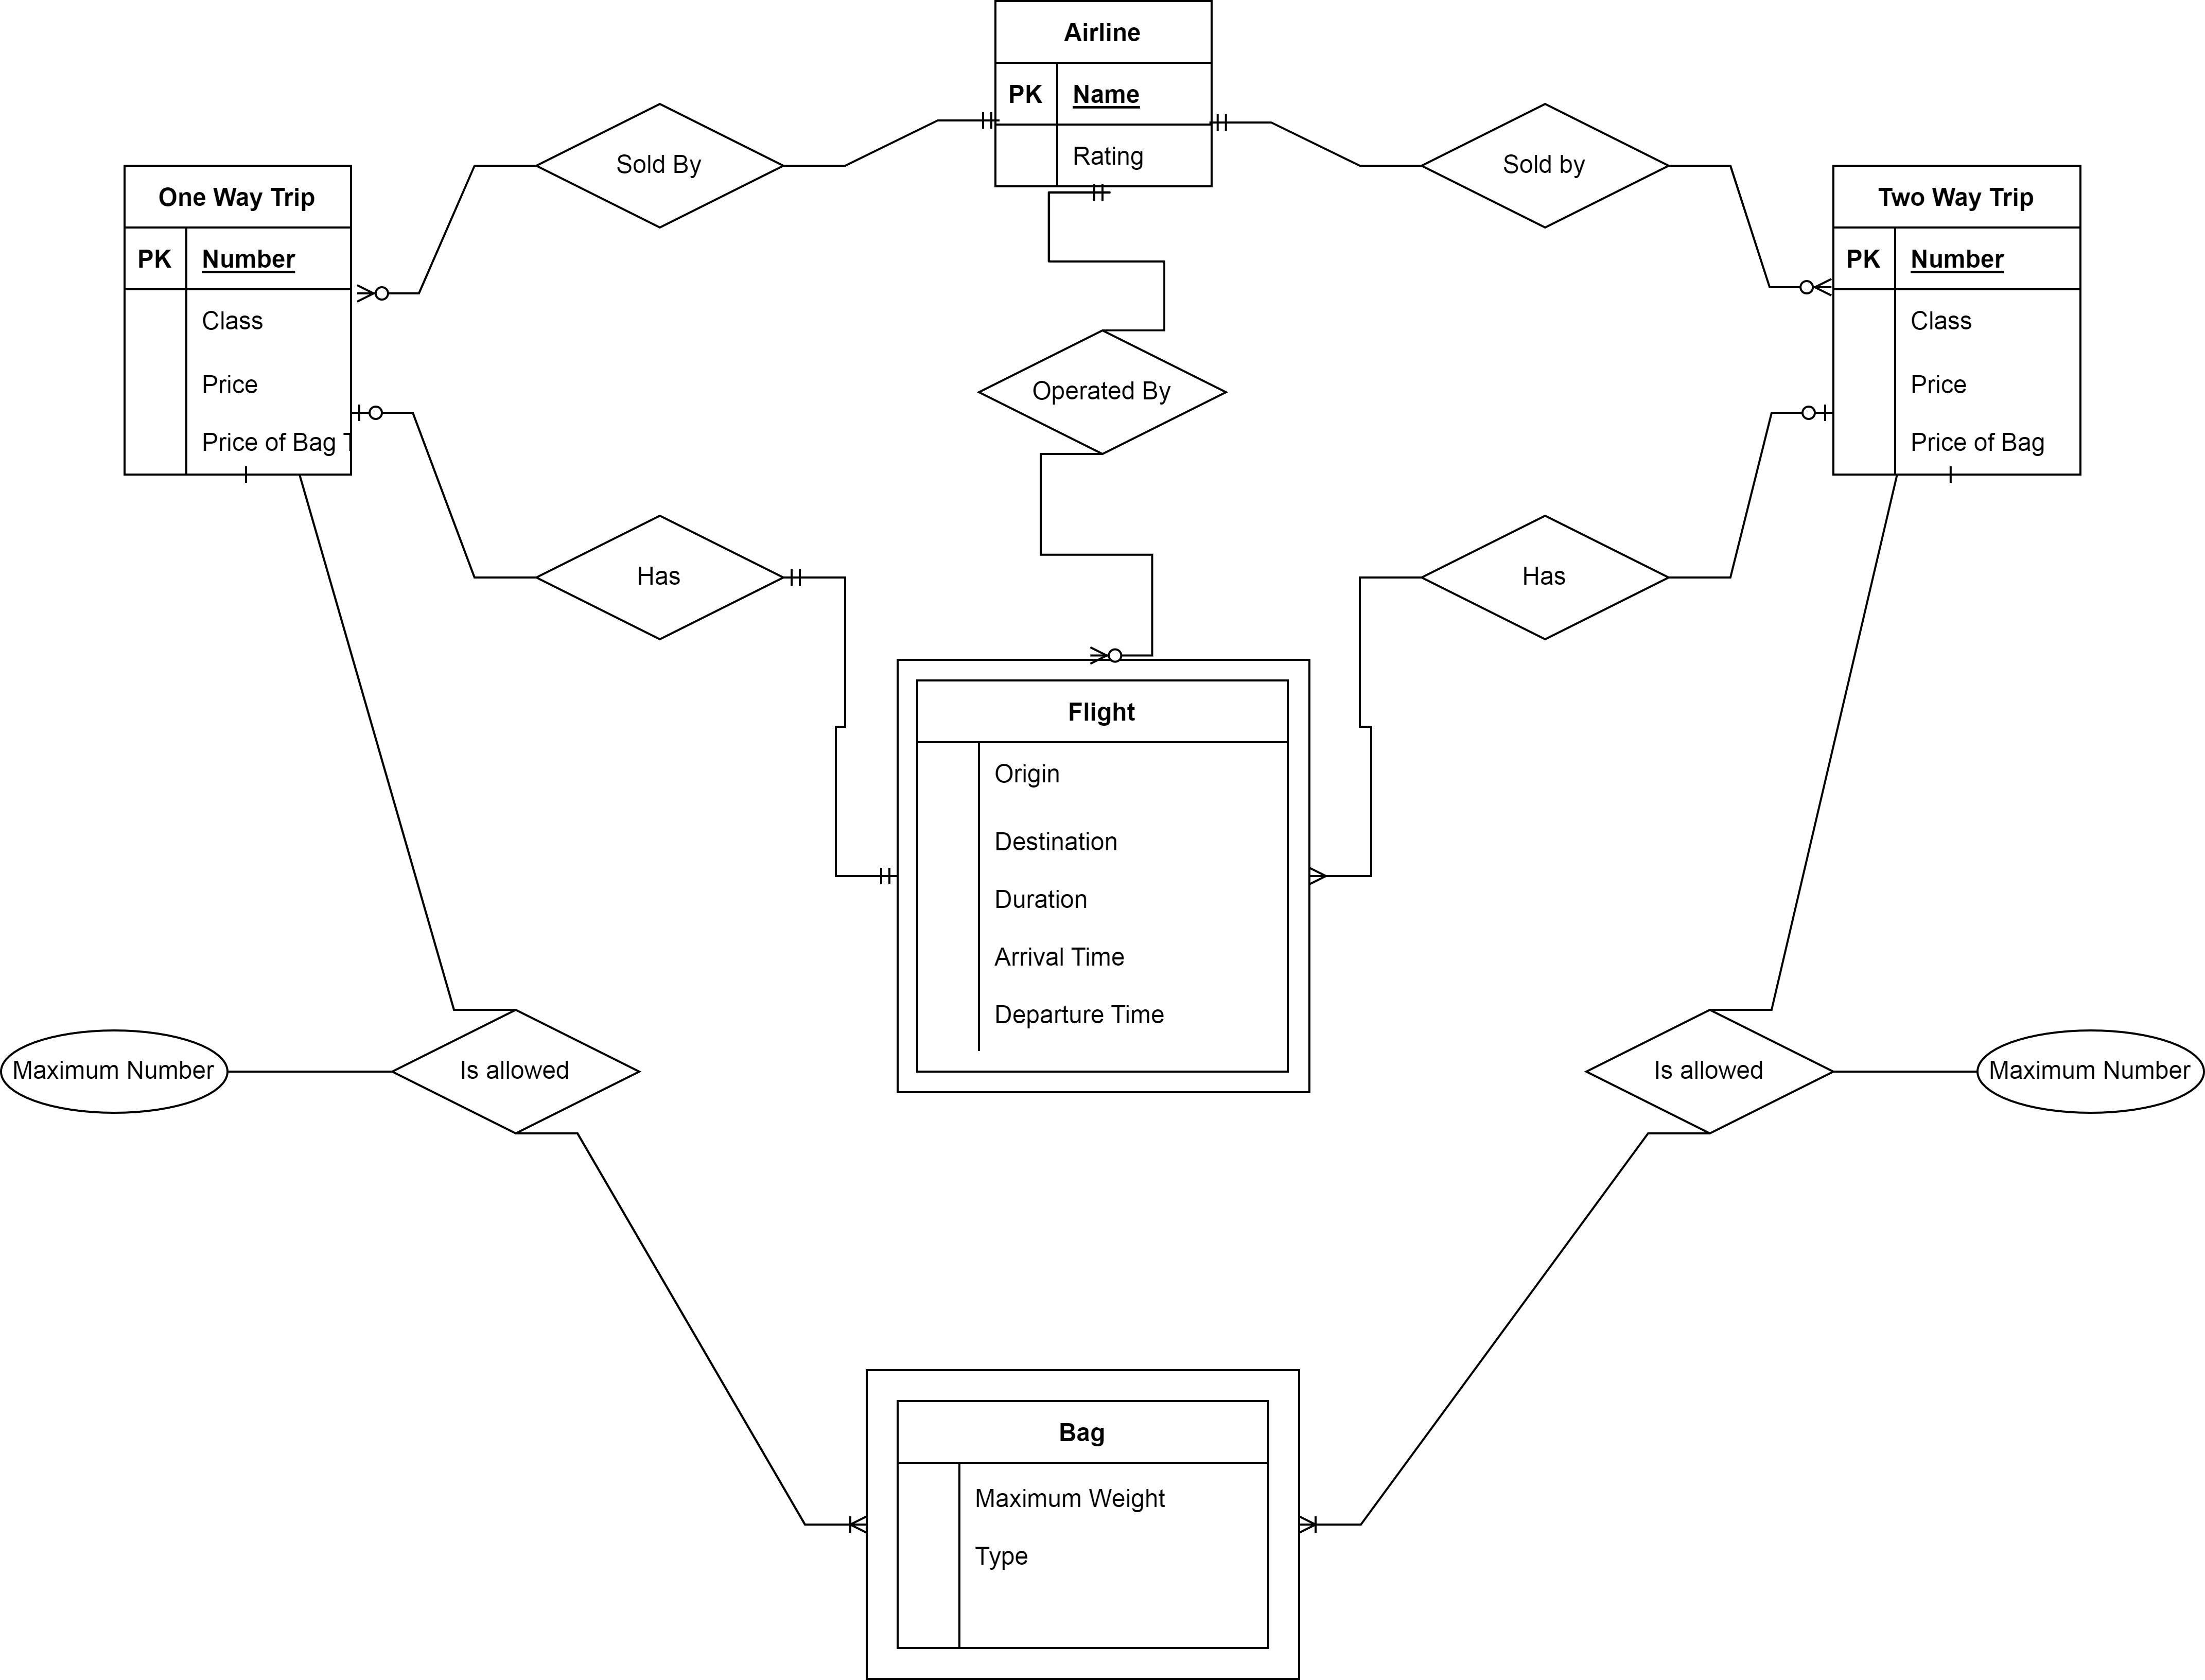attribute: (1979, 1029, 2205, 1114), (0, 1032, 228, 1115)
entity: (1829, 161, 2089, 480), (120, 161, 356, 480), (993, 0, 1217, 191)
relationship: (393, 1011, 640, 1135), (538, 521, 789, 641), (1425, 517, 1667, 641), (540, 106, 780, 229), (1424, 104, 1669, 224), (984, 335, 1226, 455), (1591, 1015, 1831, 1135)
weakentity: (894, 655, 1314, 1098), (868, 1364, 1304, 1680)
